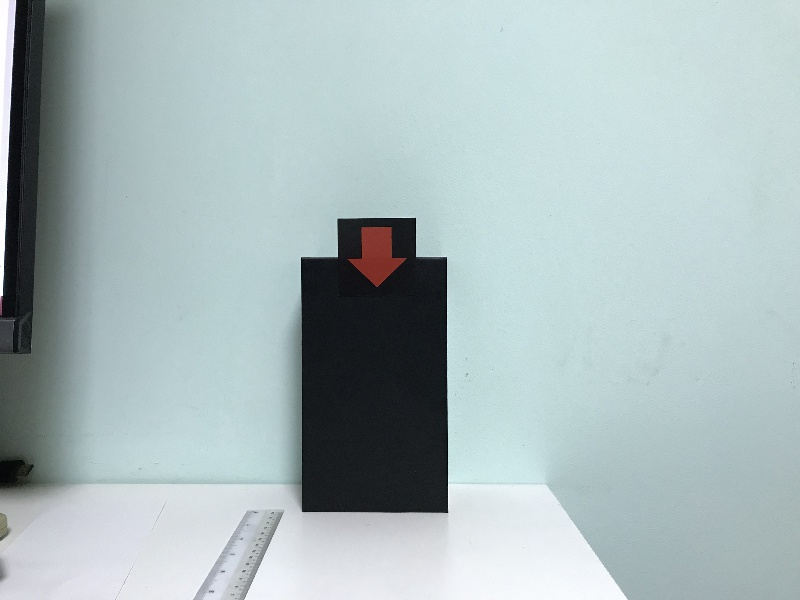DA-2: (340, 221, 416, 293)
